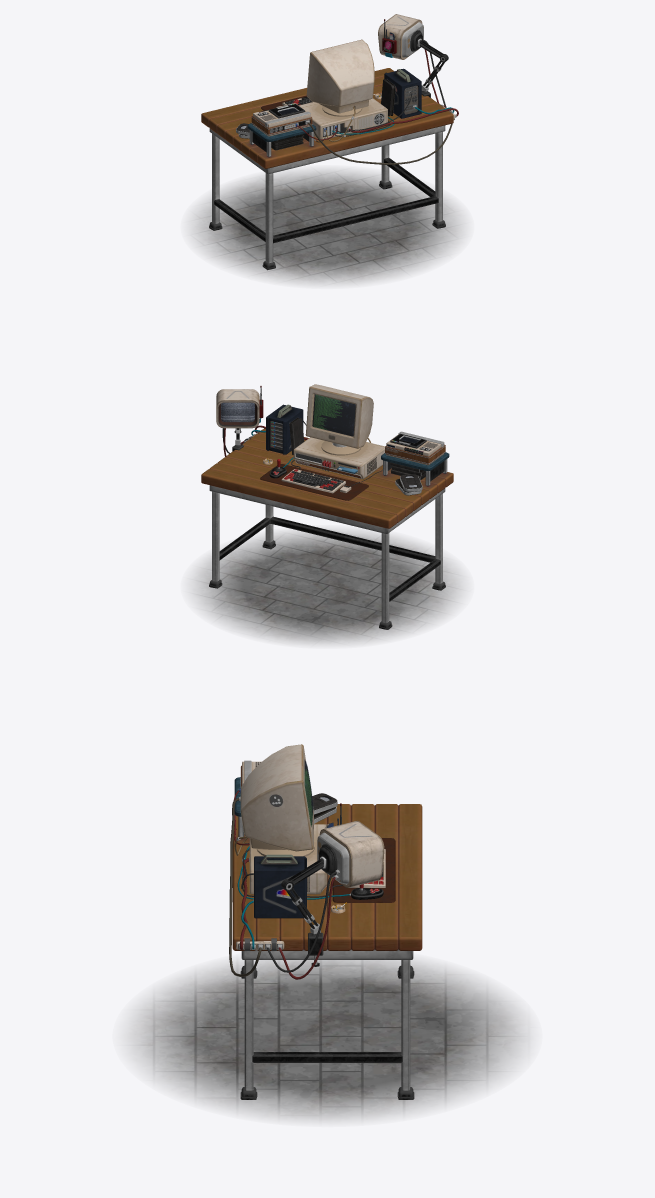
3 views of the same model, one above another, from view 1: azimuth 30°, elevation 25°; view 2: azimuth 150°, elevation 25°; view 3: azimuth 270°, elevation 25° (orthographic). The views are drawn at different scales.
Parts seen in each view (by area): view 1: Ground_ground_mat_0, table_table_mat_0, computer_computer_mat_0, Cables_cables_mat_0, Tv_tv_mat_0, vhs_vhsPlayer_mat_0, server_server_mat_0, props_props_mat_0, shelf_stand_mat_0, arm_arm_mat_0; view 2: Ground_ground_mat_0, table_table_mat_0, computer_computer_mat_0, screen_screens_0, vhs_vhsPlayer_mat_0, screen_glass_glass_0, server_server_mat_0, props_props_mat_0, Tv_tv_mat_0, peripherals_key_mat_0, keyboard_mat_mat_mat_0, shelf_stand_mat_0; view 3: Ground_ground_mat_0, table_table_mat_0, computer_computer_mat_0, Tv_tv_mat_0, Cables_cables_mat_0, server_server_mat_0, arm_arm_mat_0, keyboard_mat_mat_mat_0, props_props_mat_0, peripherals_key_mat_0.
Boxes of the visible parts, left/top/right/bottom form: Ground_ground_mat_0: left=190, top=169, right=464, bottom=284; table_table_mat_0: left=201, top=68, right=453, bottom=270; computer_computer_mat_0: left=299, top=39, right=387, bottom=139; Cables_cables_mat_0: left=295, top=39, right=458, bottom=164; Tv_tv_mat_0: left=378, top=14, right=423, bottom=59; vhs_vhsPlayer_mat_0: left=251, top=103, right=312, bottom=136; server_server_mat_0: left=384, top=68, right=421, bottom=118; props_props_mat_0: left=236, top=79, right=395, bottom=150; shelf_stand_mat_0: left=247, top=123, right=316, bottom=157; arm_arm_mat_0: left=410, top=30, right=448, bottom=97; Ground_ground_mat_0: left=190, top=529, right=464, bottom=644; table_table_mat_0: left=201, top=428, right=453, bottom=629; computer_computer_mat_0: left=293, top=384, right=384, bottom=479; screen_screens_0: left=221, top=394, right=355, bottom=436; vhs_vhsPlayer_mat_0: left=385, top=431, right=445, bottom=465; screen_glass_glass_0: left=221, top=395, right=418, bottom=486; server_server_mat_0: left=266, top=404, right=303, bottom=454; props_props_mat_0: left=263, top=417, right=425, bottom=495; Tv_tv_mat_0: left=216, top=386, right=263, bottom=428; peripherals_key_mat_0: left=269, top=459, right=351, bottom=493; keyboard_mat_mat_mat_0: left=260, top=464, right=368, bottom=500; shelf_stand_mat_0: left=381, top=452, right=449, bottom=486; Ground_ground_mat_0: left=126, top=959, right=528, bottom=1121; table_table_mat_0: left=232, top=804, right=422, bottom=1099; computer_computer_mat_0: left=240, top=744, right=327, bottom=894; Tv_tv_mat_0: left=317, top=803, right=384, bottom=887; Cables_cables_mat_0: left=229, top=788, right=350, bottom=979; server_server_mat_0: left=254, top=854, right=306, bottom=918; arm_arm_mat_0: left=281, top=844, right=337, bottom=966; keyboard_mat_mat_mat_0: left=332, top=838, right=395, bottom=902; props_props_mat_0: left=312, top=793, right=346, bottom=913; peripherals_key_mat_0: left=349, top=849, right=385, bottom=899.
Bounding box in the file's own units: 25.28 × 11.09 × 22.75.
Materials: 14 (14 with a texture image).
